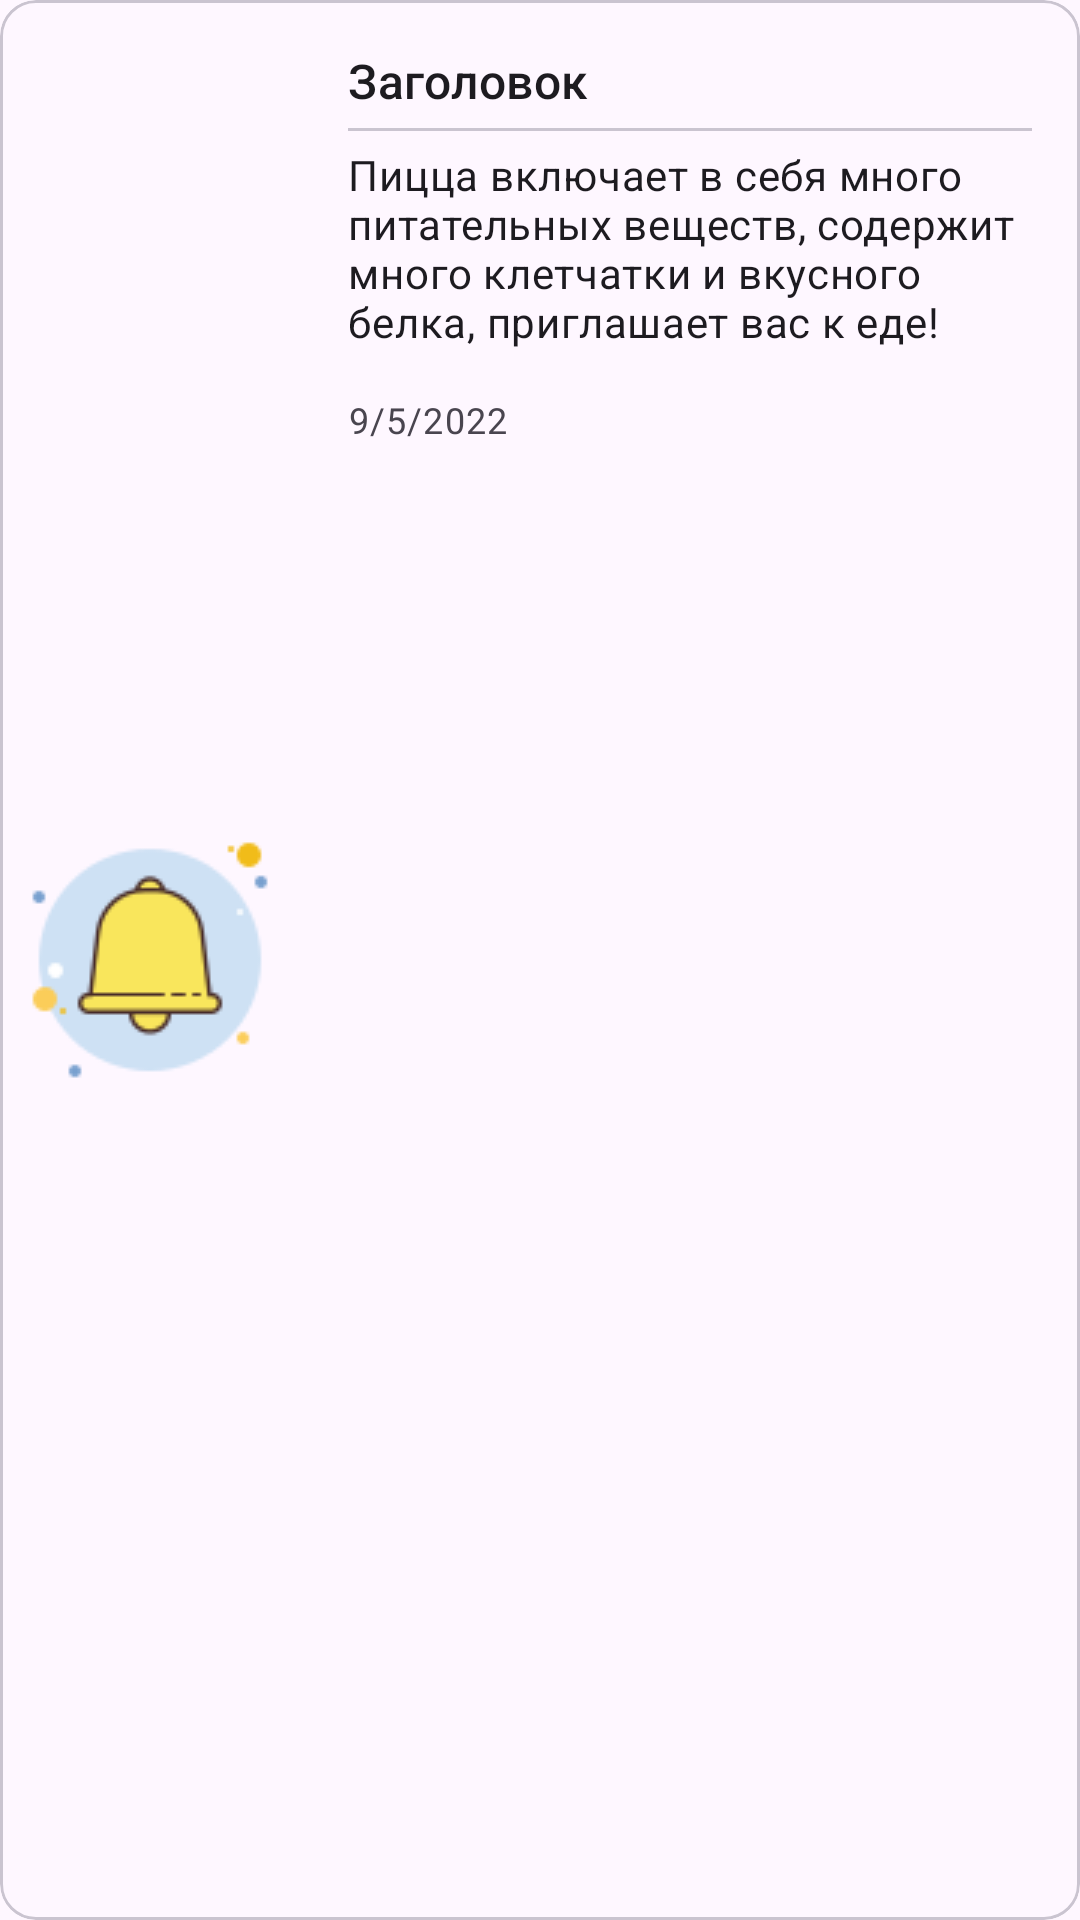

Where to tap for icons on this 1080 × 1920 app screen, as (x=x, y=y):
notify: (x=150, y=960)
